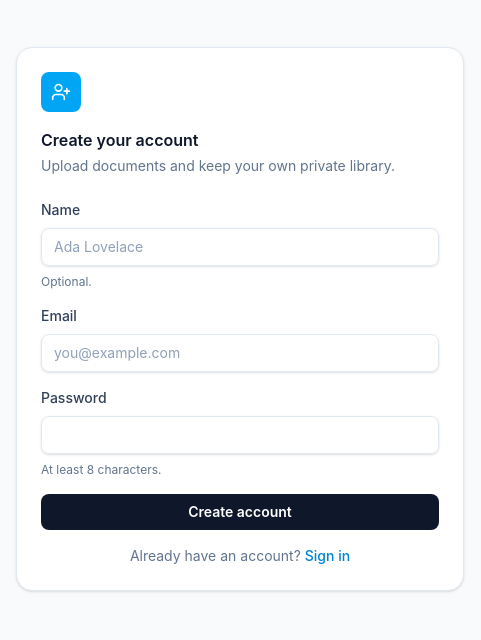
Scenario: RegisterPage › shows the server error when the email is already taken
Type "grace@example.com" into the field labelled "Email" at coordinates (240, 353), box [41,334,439,372]
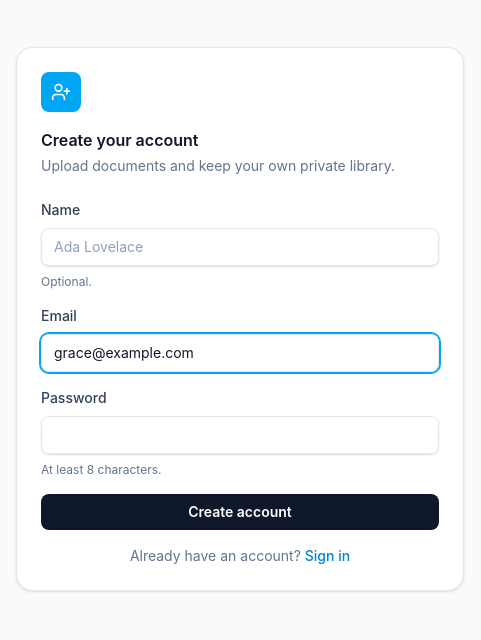
Type "correct-horse" into the password field labelled "Password At least 8 characters." at coordinates (240, 435), box [41,416,439,454]
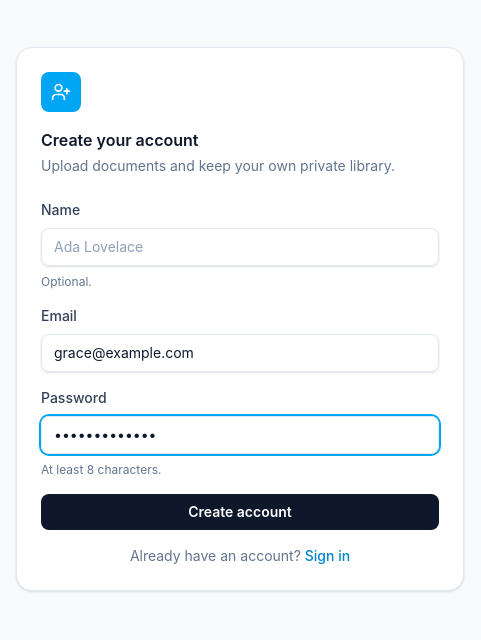
Click the button "Create account" at coordinates (240, 512), box [41,494,439,530]
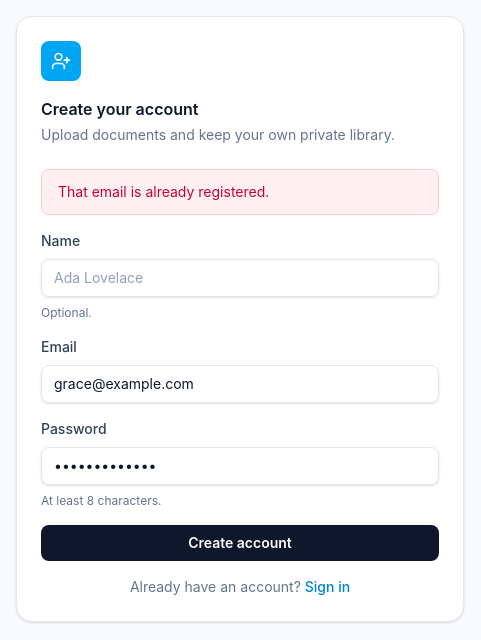
Check: the button "Create account" is enabled, box [41,525,439,561]
Check: the message reads "That email is already registered.", box [58,183,269,200]
